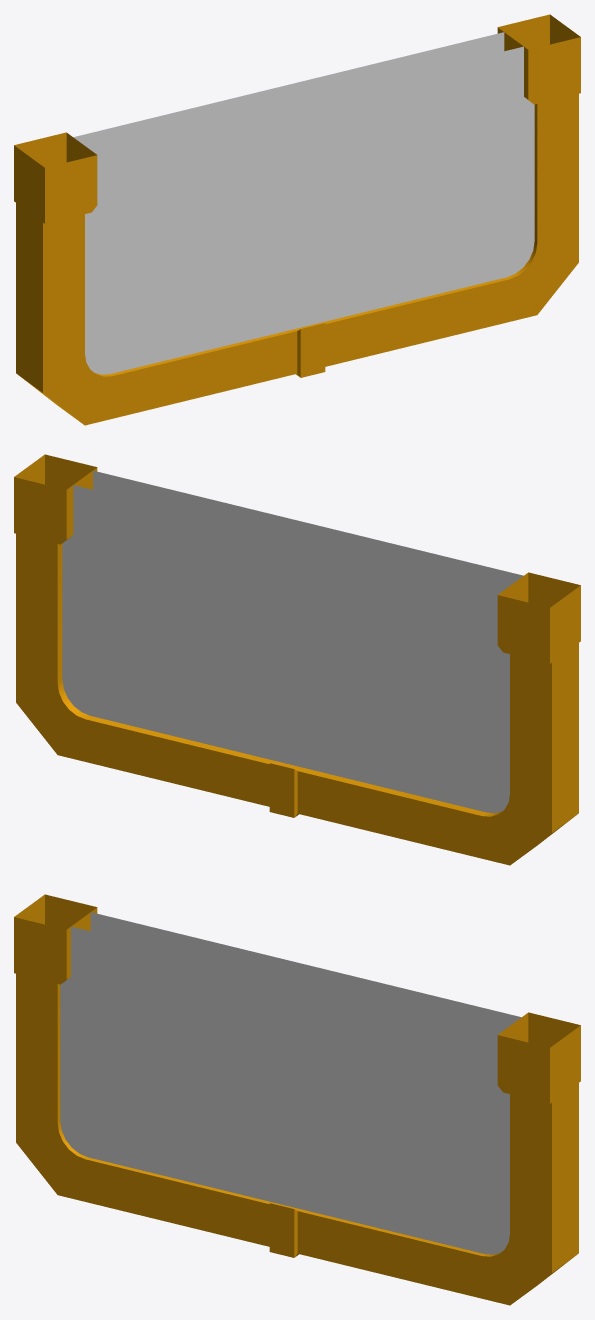
Rendered from Obstacle_wall1fbx.fbx.
3 renders of one model, top to bottom at view 1: azimuth 30°, elevation 25°; view 2: azimuth 150°, elevation 25°; view 3: azimuth 330°, elevation 25°, orthographic.
Visible parts, largest first — view 1: Cube.001, Cube.003; view 2: Cube.001, Cube.003; view 3: Cube.001, Cube.003.
Boxes of the visible parts, x1=… form: Cube.001: x1=73, y1=32, x2=534, y2=374; Cube.003: x1=14, y1=14, x2=580, y2=425; Cube.001: x1=62, y1=470, x2=523, y2=813; Cube.003: x1=14, y1=454, x2=580, y2=865; Cube.001: x1=60, y1=912, x2=521, y2=1254; Cube.003: x1=14, y1=894, x2=580, y2=1305.
Size of the model in its own units: 10 by 4.86 by 1.01.
